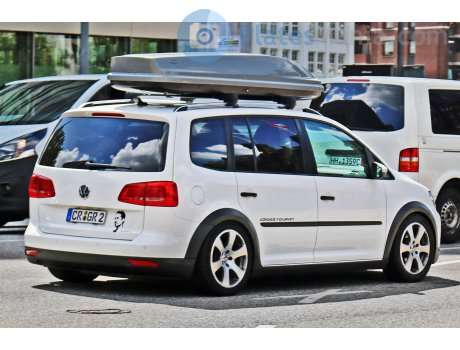License Plates: (72, 206, 103, 222)
